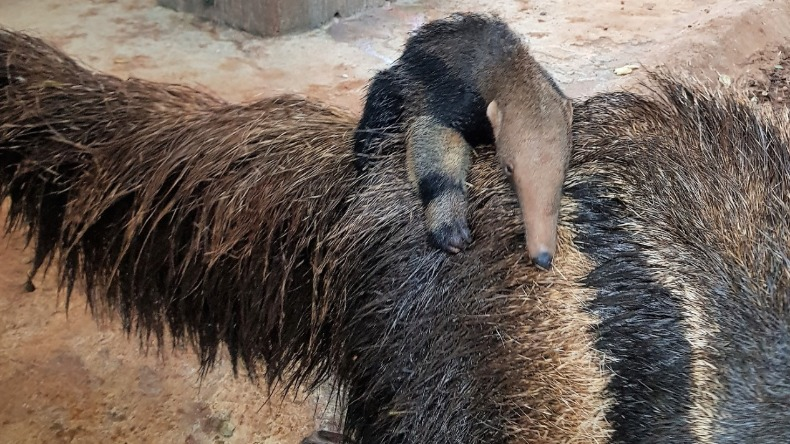TamanduaBandeira: (1, 21, 783, 432), (361, 8, 581, 282)
